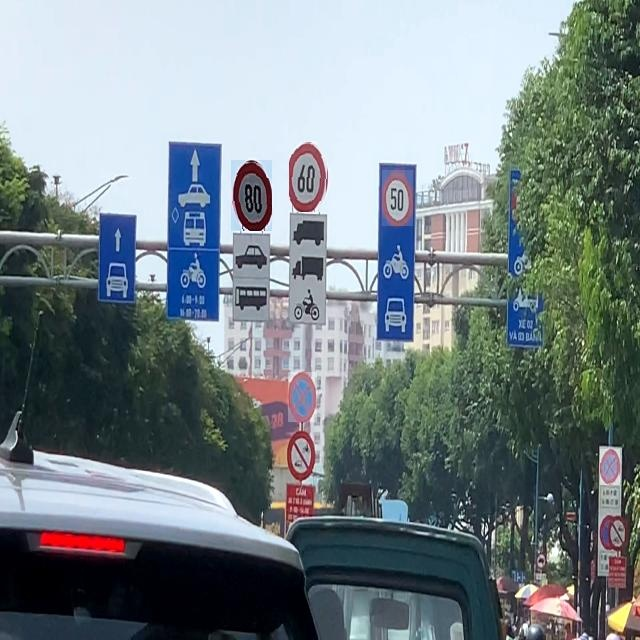bien_cam: (231, 160, 272, 231), (290, 142, 330, 212), (382, 170, 413, 226), (288, 372, 317, 422), (600, 449, 620, 485)
